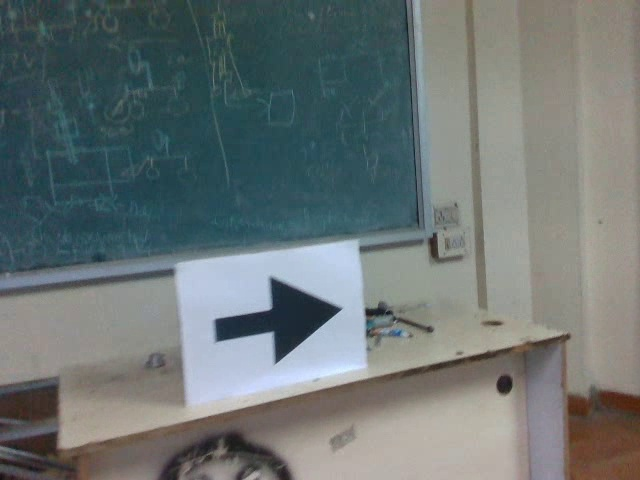Right: (212, 275, 340, 369)
